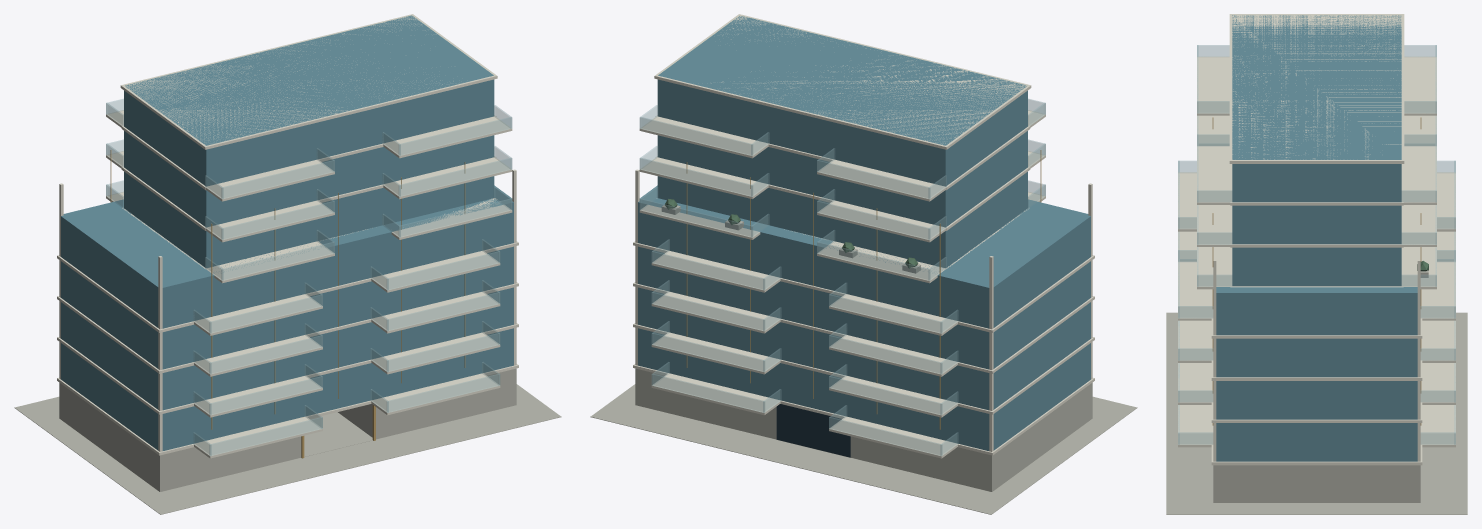
The picture shows the model from 3 angles, left to right: view 1: azimuth 30°, elevation 25°; view 2: azimuth 150°, elevation 25°; view 3: azimuth 270°, elevation 25°; orthographic projection. The views are drawn at different scales.
Parts seen in each view (by area): view 1: HK-HIGH-02-glazing, HK-HIGH-02-ivory, HK-HIGH-02-stone, HK-HIGH-02-glass, HK-HIGH-02-gold; view 2: HK-HIGH-02-glazing, HK-HIGH-02-ivory, HK-HIGH-02-glass, HK-HIGH-02-stone, HK-HIGH-02-dark, HK-HIGH-02-gold; view 3: HK-HIGH-02-glazing, HK-HIGH-02-ivory, HK-HIGH-02-stone, HK-HIGH-02-glass, HK-HIGH-02-gold.
Boxes of the visible parts, x1,y1,x2,y2 form: HK-HIGH-02-glazing: (61, 15, 513, 450); HK-HIGH-02-ivory: (57, 14, 518, 458); HK-HIGH-02-stone: (14, 368, 561, 514); HK-HIGH-02-glass: (106, 99, 512, 456); HK-HIGH-02-gold: (110, 150, 465, 458); HK-HIGH-02-glazing: (638, 16, 1090, 450); HK-HIGH-02-ivory: (633, 14, 1094, 458); HK-HIGH-02-glass: (639, 99, 1045, 456); HK-HIGH-02-stone: (590, 205, 1137, 514); HK-HIGH-02-dark: (776, 404, 850, 457); HK-HIGH-02-gold: (686, 150, 1041, 429); HK-HIGH-02-glazing: (1216, 15, 1417, 461); HK-HIGH-02-ivory: (1178, 14, 1455, 465); HK-HIGH-02-stone: (1166, 270, 1467, 514); HK-HIGH-02-glass: (1178, 45, 1455, 444); HK-HIGH-02-gold: (1212, 117, 1421, 425).
Size of the model in its own units: 38 by 29.6 by 24.
